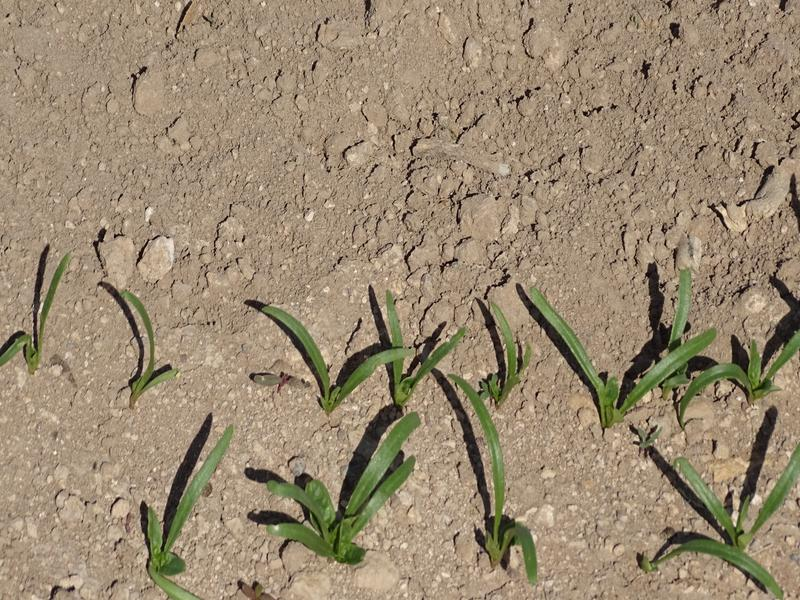Espinaca: (261, 278, 800, 406), (651, 419, 791, 596), (274, 416, 416, 555), (119, 430, 231, 590), (470, 408, 547, 575), (7, 251, 78, 370), (121, 287, 183, 411)
